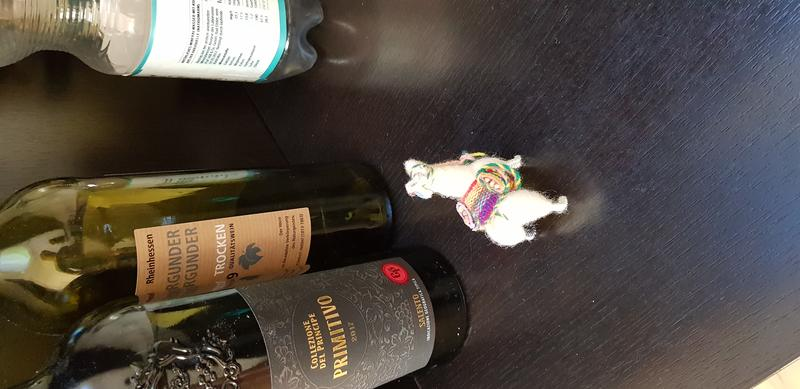Horse-Toy: (397, 147, 586, 262)
